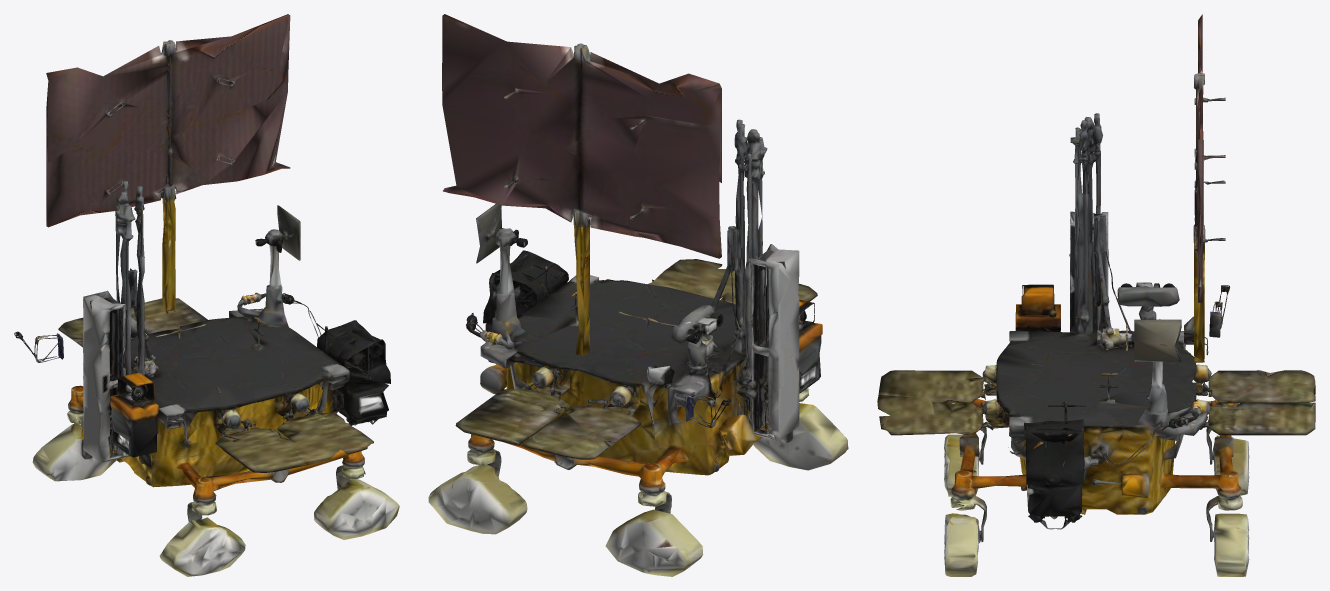
File: lupex-low.glb
The picture shows the model from 3 angles, left to right: view 1: azimuth 30°, elevation 25°; view 2: azimuth 150°, elevation 25°; view 3: azimuth 270°, elevation 25°; orthographic projection. The views are drawn at different scales.
Bounding box in the file's own units: 1.32 × 1.9 × 1.66.
1 material, 1 textured.
